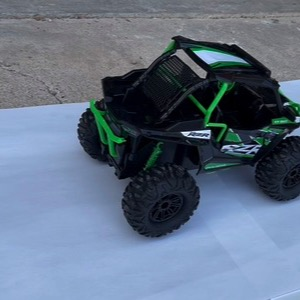polaris: (76, 35, 299, 238)
